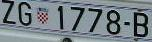-: (124, 20, 132, 27)
1: (58, 5, 64, 31)
7: (70, 6, 84, 33), (88, 8, 101, 34)
8: (106, 8, 122, 35)
B: (133, 12, 149, 38)
G: (18, 2, 32, 27)
Z: (1, 0, 16, 26)
